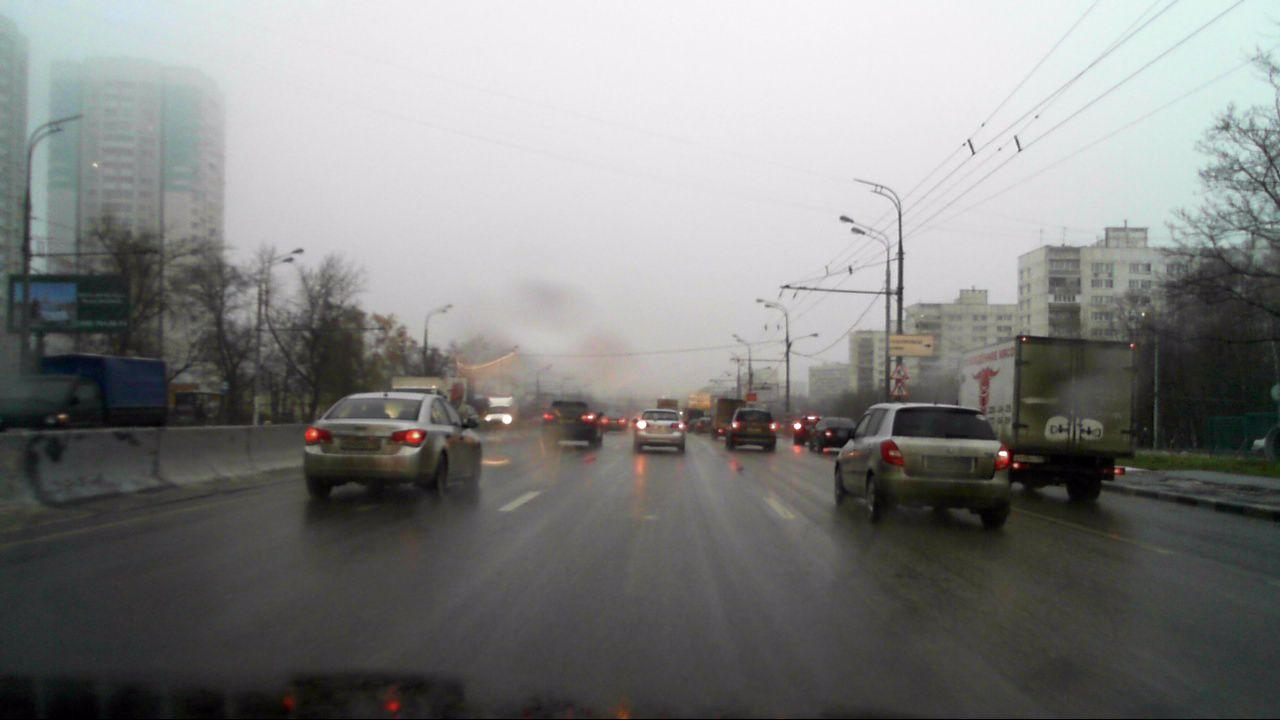1_20_2: (890, 381, 909, 397)
1_25: (890, 362, 910, 379)
